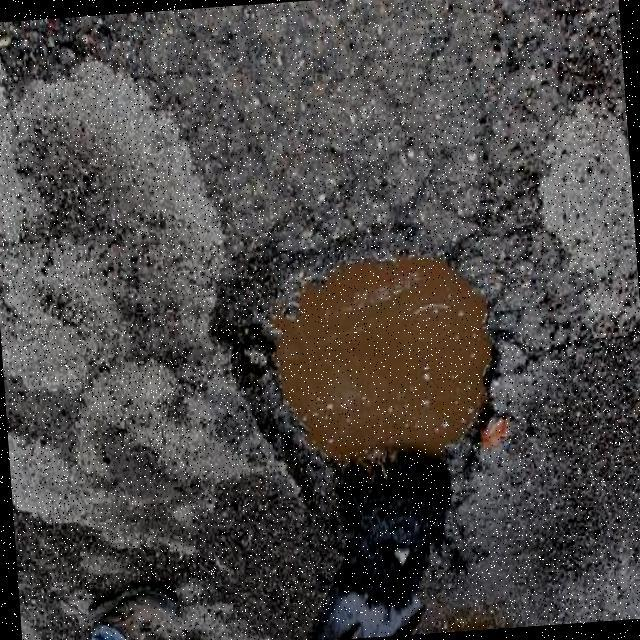Pothole: (209, 250, 496, 640)
